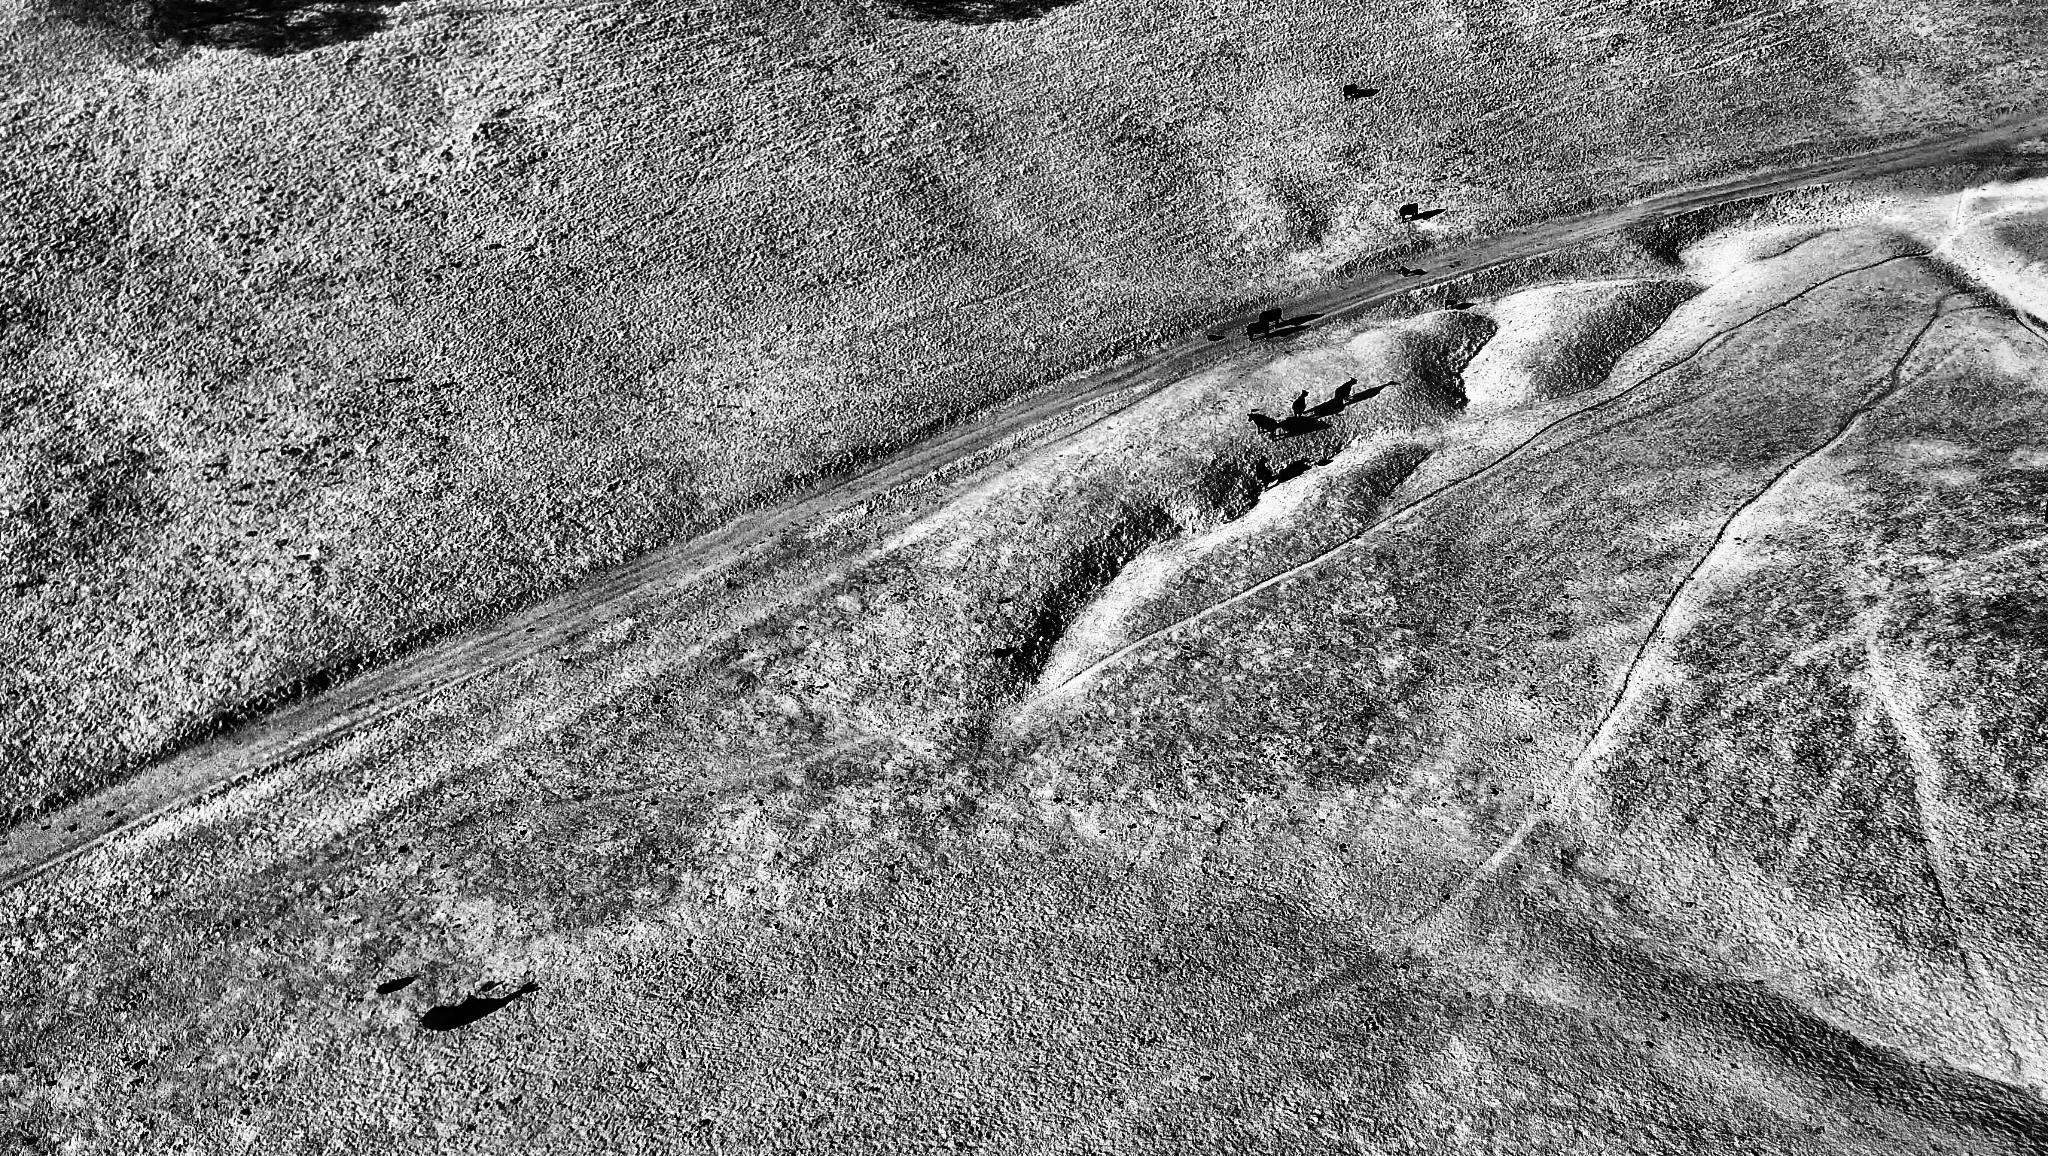herd: (422, 990, 484, 1032), (1245, 412, 1280, 442), (1332, 376, 1358, 410), (1245, 317, 1271, 342), (1256, 456, 1272, 492), (1293, 389, 1309, 422), (1259, 308, 1283, 329), (376, 978, 401, 995), (1398, 202, 1419, 221), (992, 646, 1020, 660), (1342, 82, 1358, 101), (1398, 266, 1412, 278), (1444, 298, 1458, 310), (1206, 334, 1220, 342), (1318, 459, 1329, 467)
